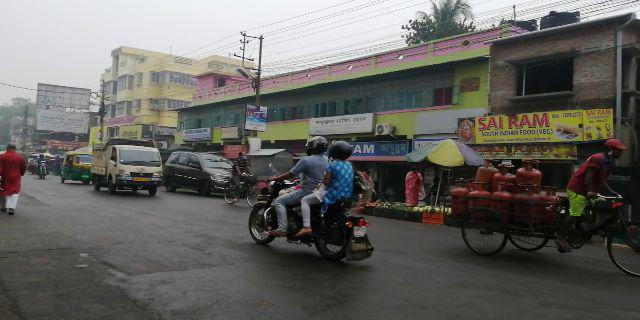Autorickshaw: (58, 146, 90, 186)
Car: (164, 145, 233, 199)
Cycle: (223, 152, 262, 210)
Minitruck: (97, 142, 167, 193)
Motorbike: (246, 133, 370, 266)
Rickshaw: (448, 171, 634, 280)
